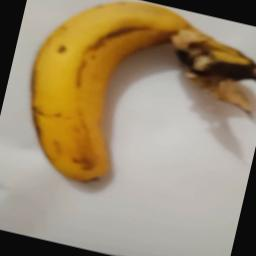Banana Unripe: (1, 0, 256, 221)
